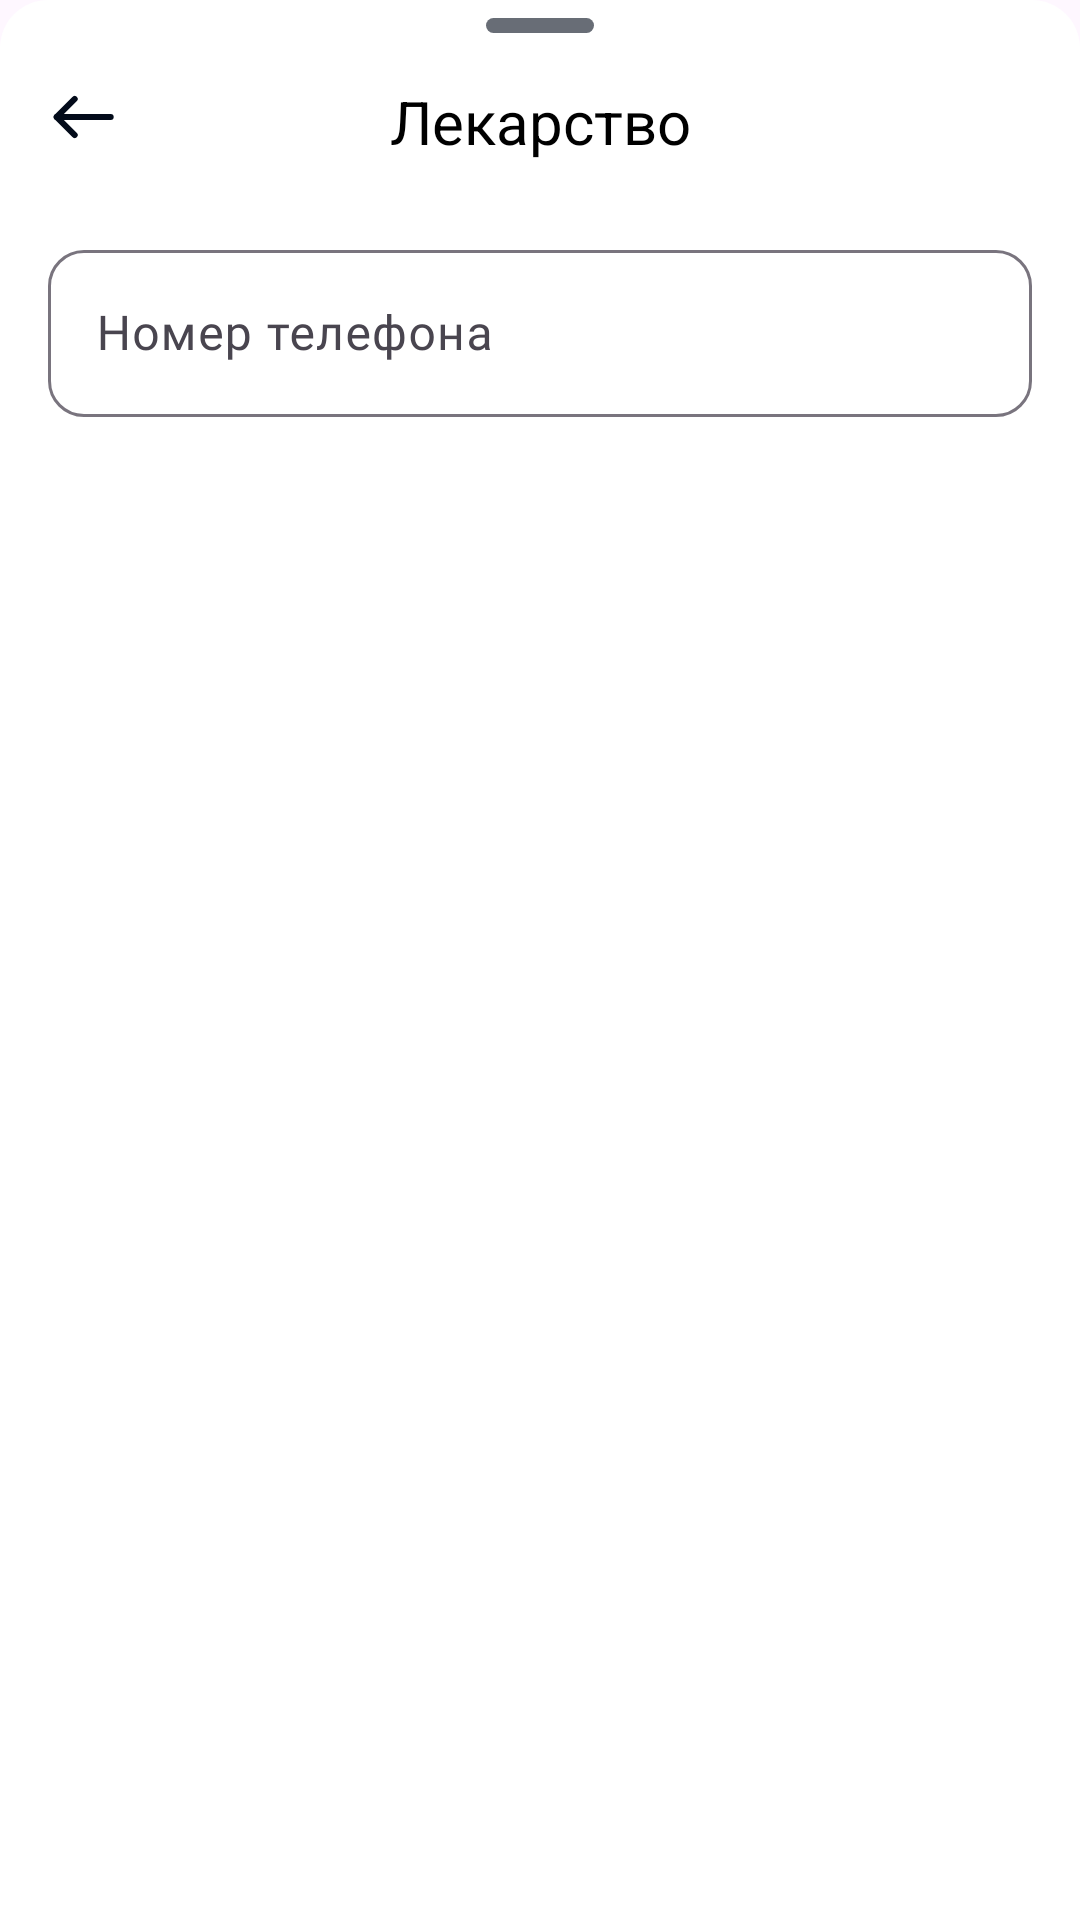

Icon click points for this 1080*1920 phone screenshot, format [x,y]:
arrow left: [83,117]
